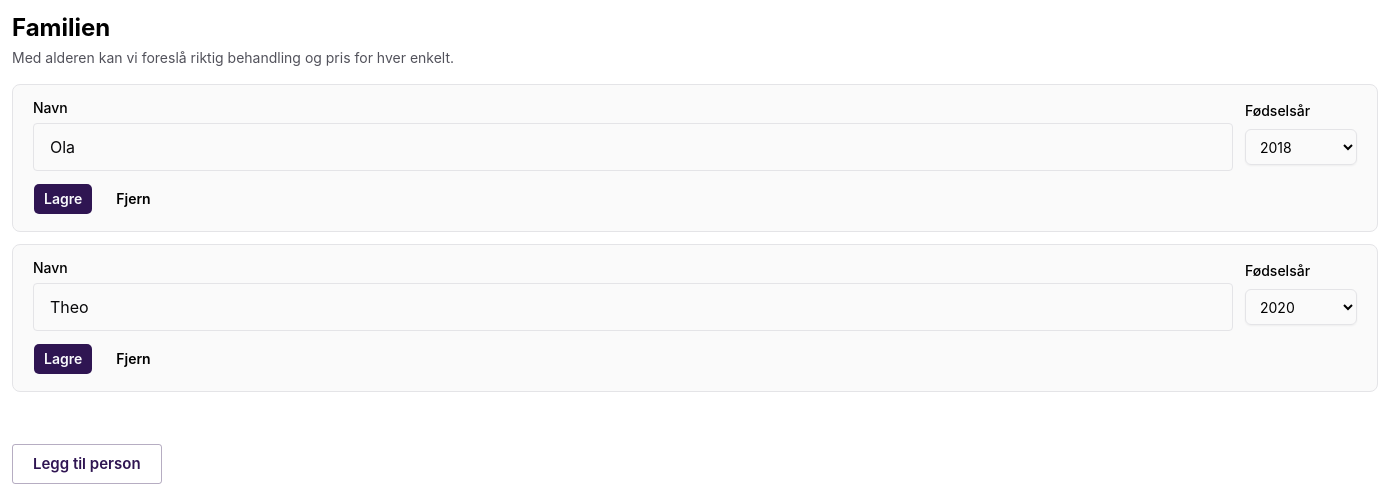
Test: FamilyEditor › keeps another child’s unsaved typing when one child is saved
The width and height of the screenshot is (1378, 501).
Replace the text in the 2nd field labelled "Navn" with "Theodor" at (633, 307), box [33,283,1233,331]
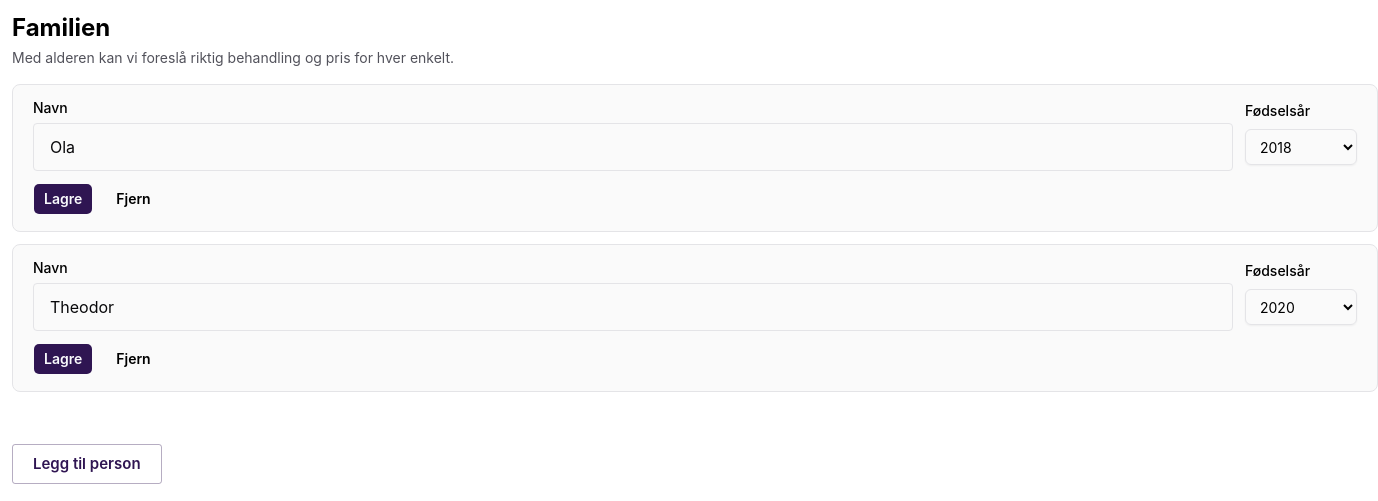
Replace the text in the 1st field labelled "Navn" with "Ola E" at (633, 147), box [33,123,1233,171]
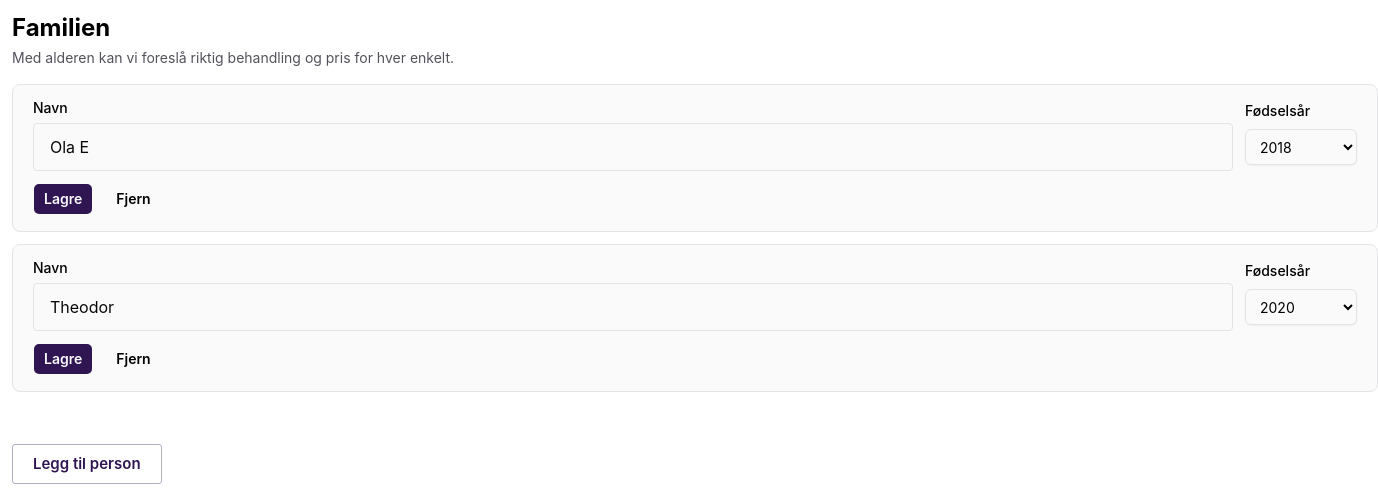
Click the 1st button "Lagre" at (63, 199), box [33,183,93,215]
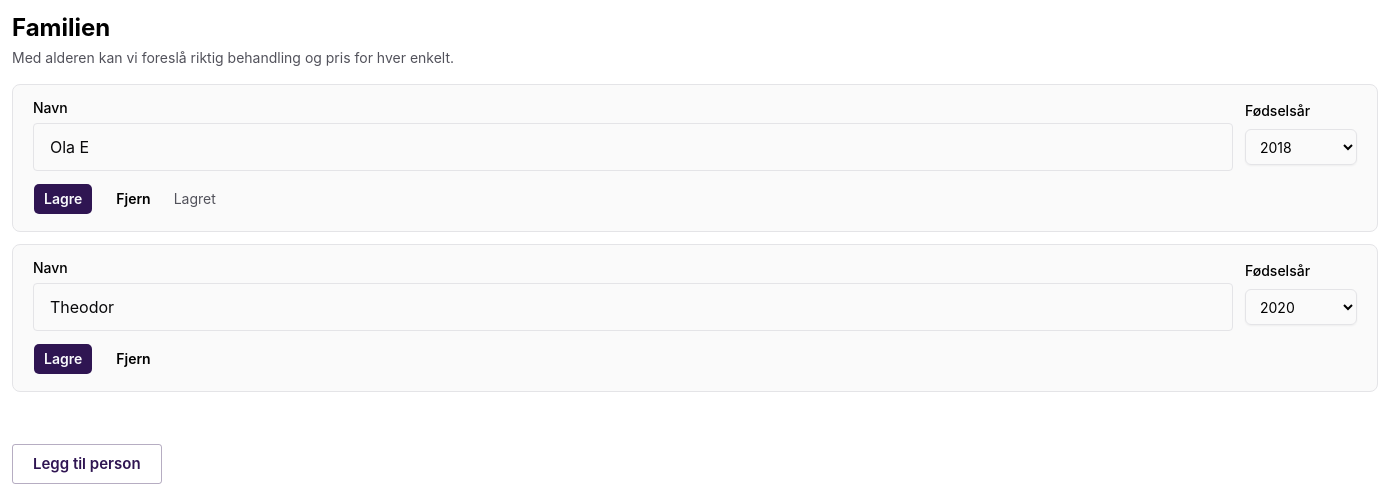
Expected: the text "Lagret" is shown, [174,190,216,207]
